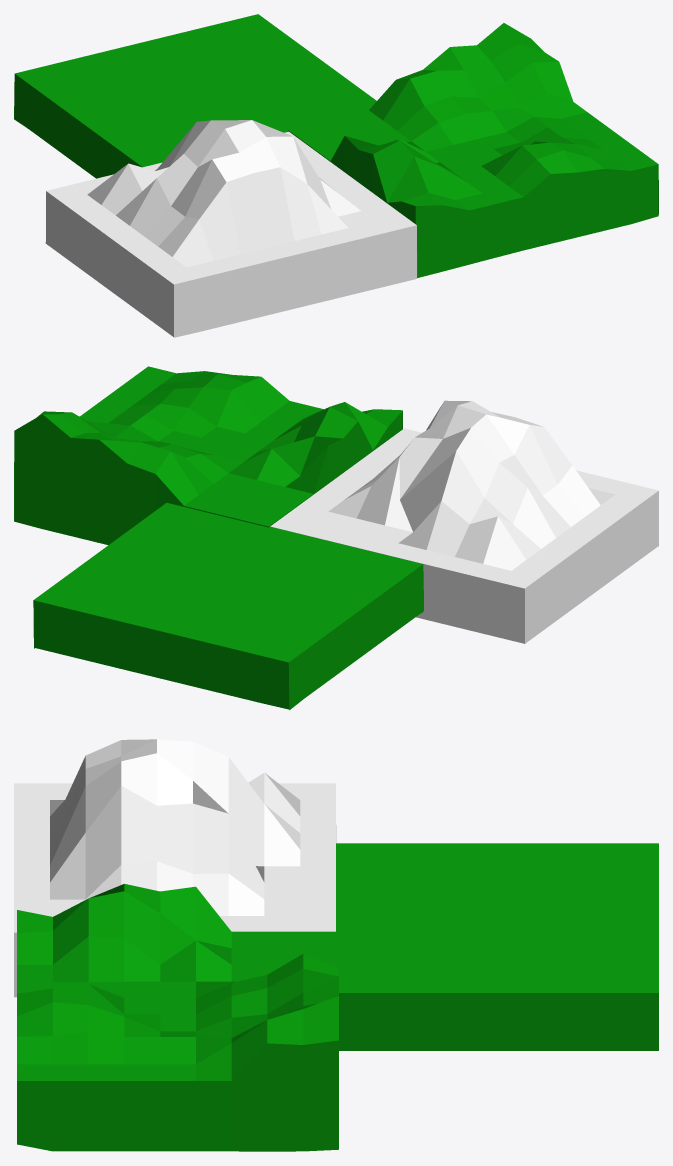
The model's file is paisaje.glb.
3 renders of one model, top to bottom at view 1: azimuth 30°, elevation 25°; view 2: azimuth 150°, elevation 25°; view 3: azimuth 270°, elevation 25°, orthographic. The views are drawn at different scales.
Parts seen in each view (by area): view 1: Plane, Plane.003, Plane.001; view 2: Plane.001, Plane, Plane.003; view 3: Plane.003, Plane.001, Plane.
Boxes of the visible parts, <box> form: Plane: <box>45,120,417,337</box>; Plane.003: <box>288,23,658,277</box>; Plane.001: <box>14,14,376,178</box>; Plane.001: <box>33,502,423,710</box>; Plane: <box>270,400,658,643</box>; Plane.003: <box>14,366,402,545</box>; Plane.003: <box>17,883,338,1151</box>; Plane.001: <box>336,843,658,1050</box>; Plane: <box>14,739,336,997</box>.
Size of the model in its own units: 72 by 20.54 by 65.71.
